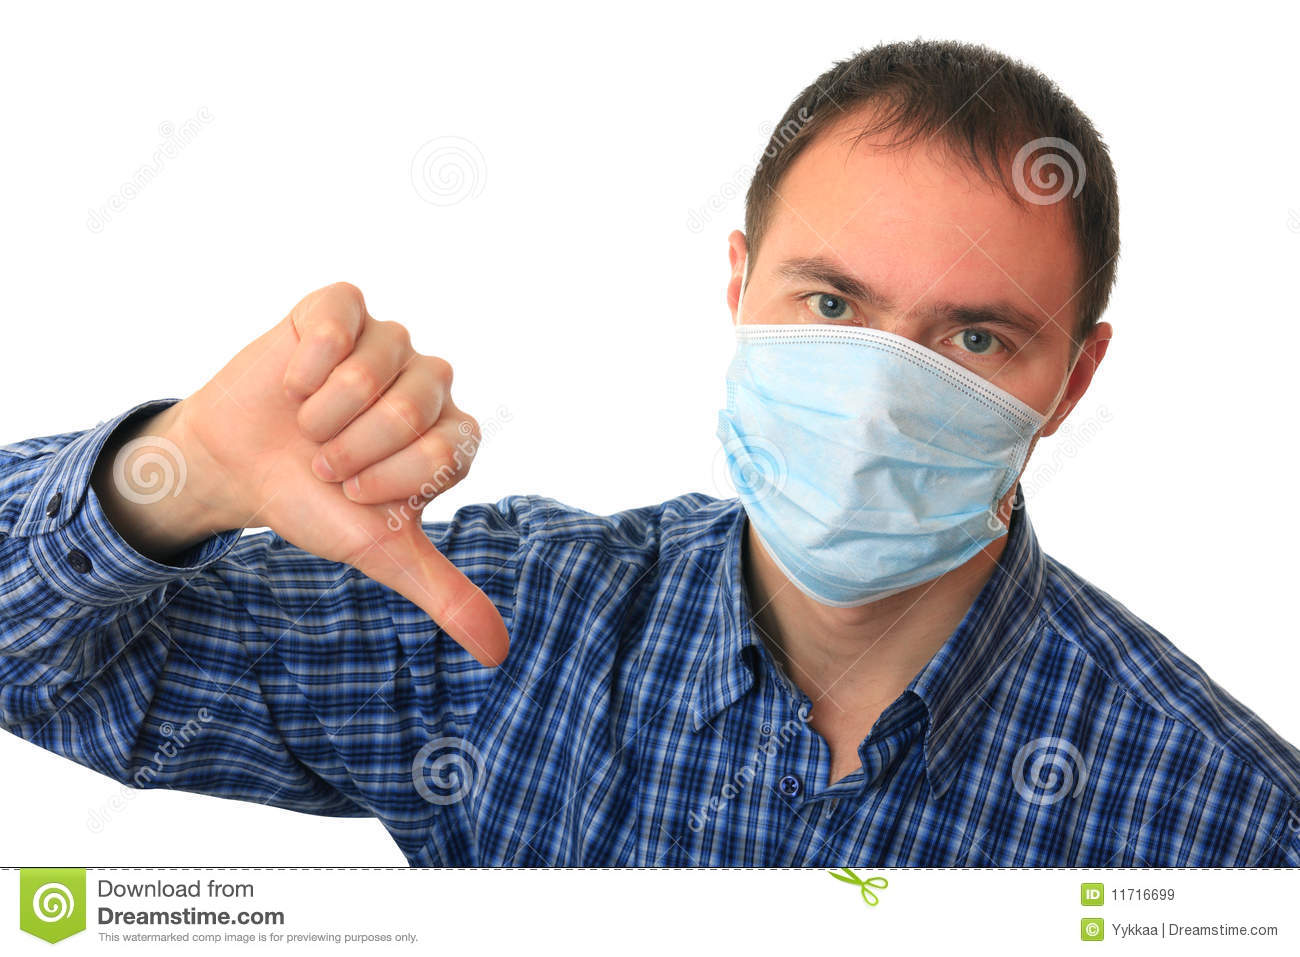mask: (713, 332, 1031, 588)
